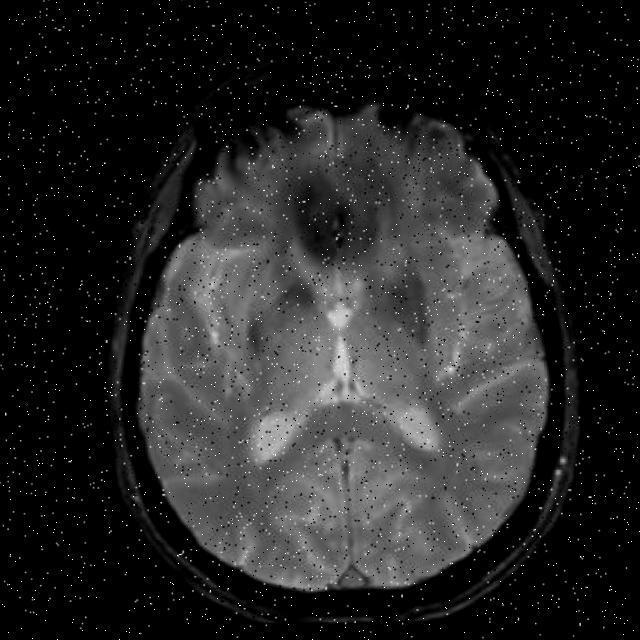MCI: (271, 180, 370, 286)
